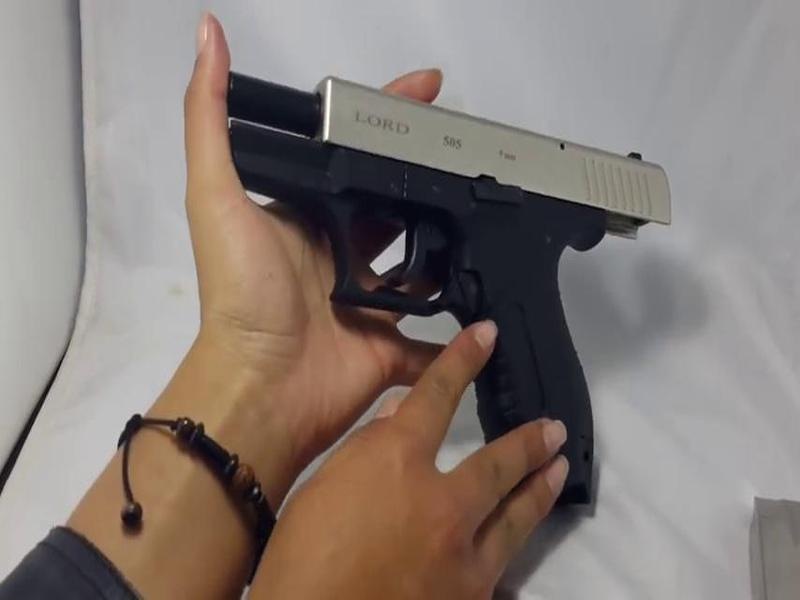Pistola: (185, 53, 687, 522)
